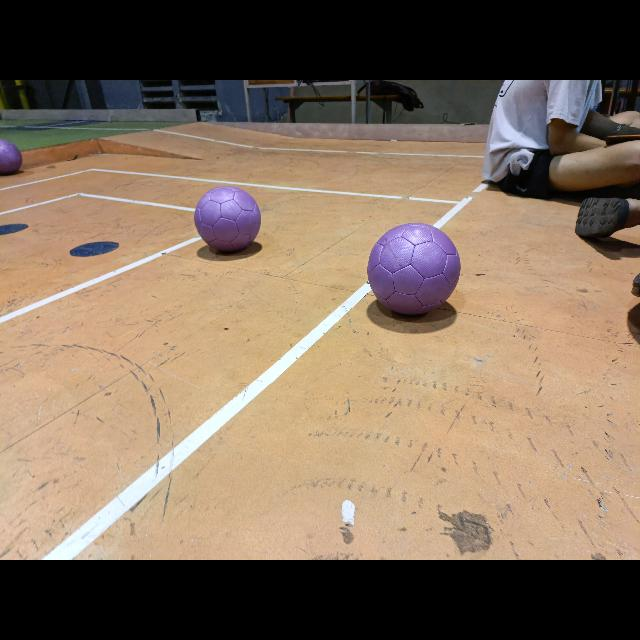P: (368, 223, 460, 314), (195, 186, 261, 252), (1, 138, 22, 174)
